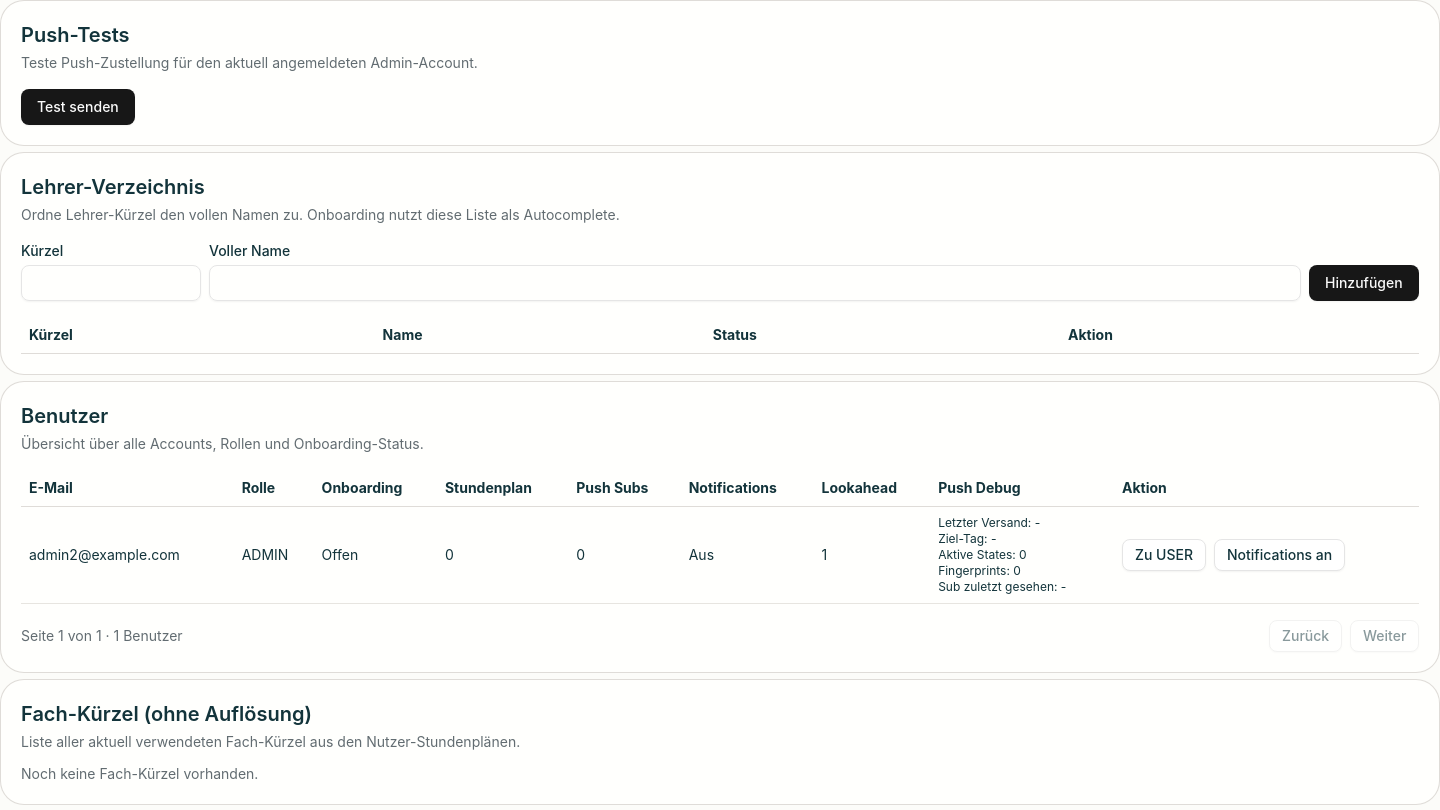
Test: AdminPanel role demotion confirmation › opens confirmation dialog when clicking "Zu USER" for an admin
This screenshot has width=1440, height=810.
Click the button "Zu USER" at x=1164, y=555, box [1122, 539, 1206, 571]
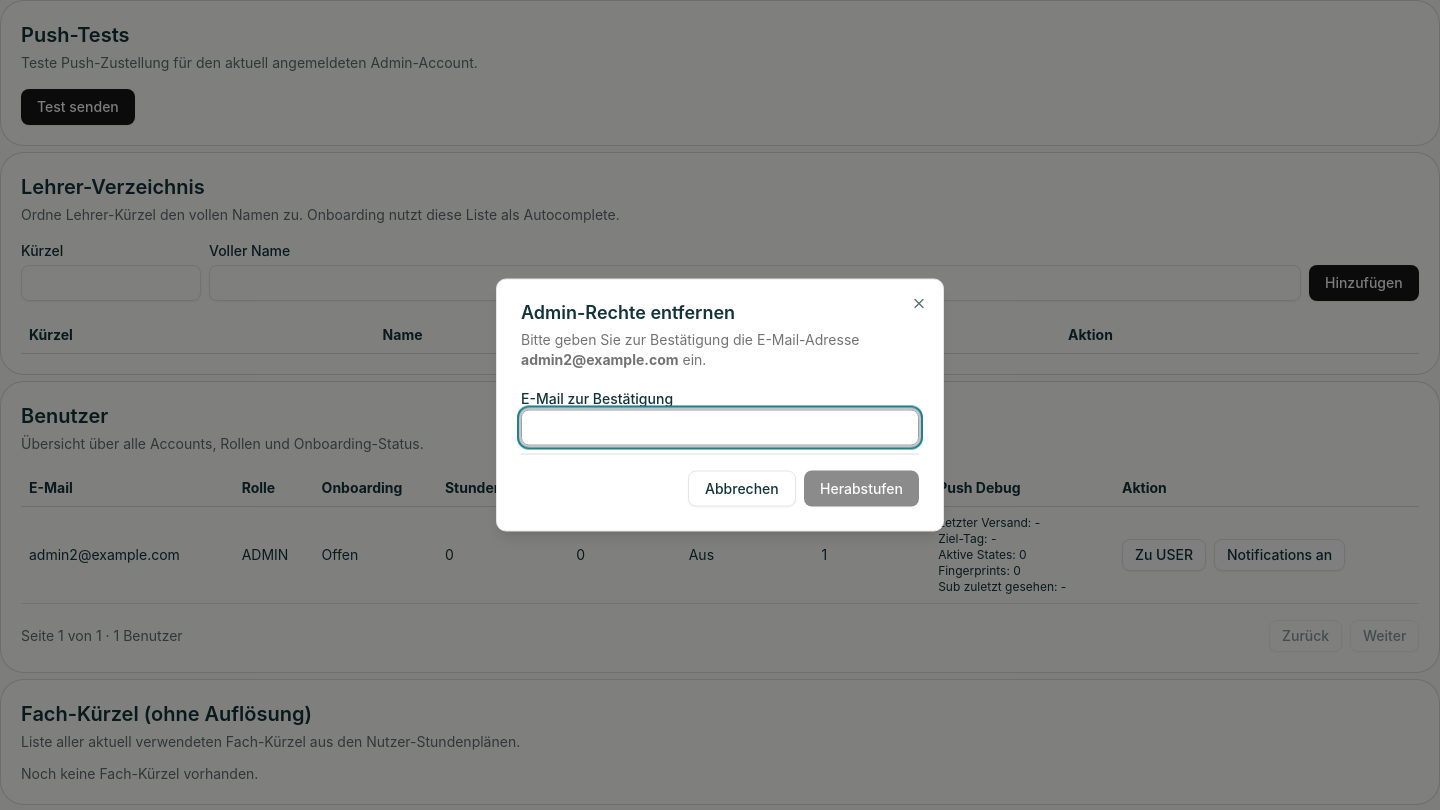
Expected: the dialog is shown, [496, 278, 944, 532]
Expected: the text "Bitte geben Sie zur Bestätigung die E-Mail-Adresse" is shown, [521, 330, 860, 348]
Expected: the text "admin2@example.com" is shown, [521, 350, 679, 368]
